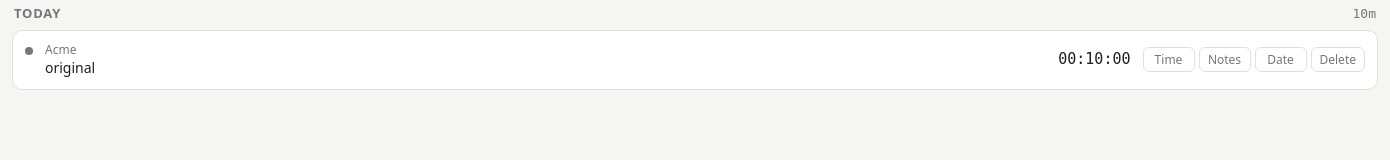
Test case: DayList notes editing › Escape discards the edit even though it leaves through blur
The image size is (1390, 160).
Step 1. Click the button titled "Edit notes" → (70,68), box [45,58,1046,78]
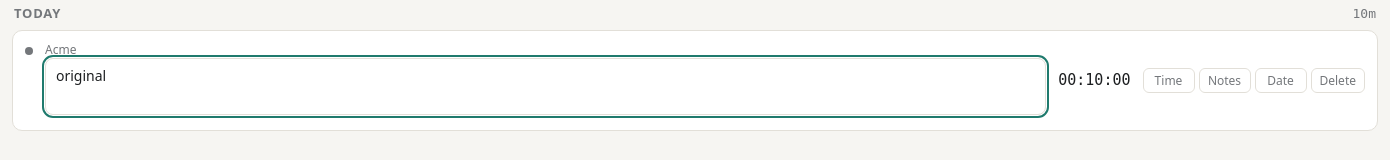
Step 2. Replace the text in the text box with "changed" → (546,86), box [45,58,1046,115]
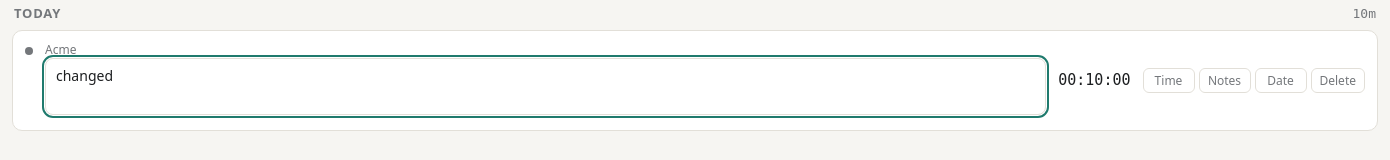
Step 3. Press Escape in the text box, box [45,58,1046,115]
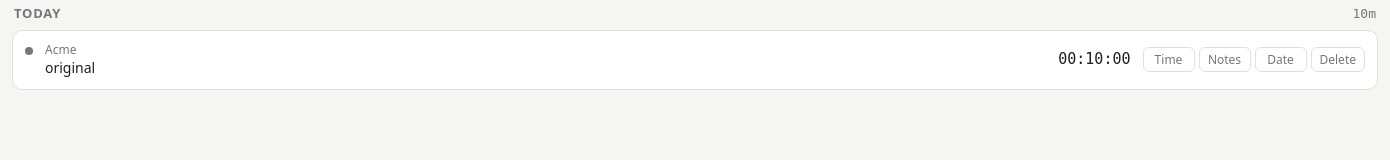
Expected: the button titled "Edit notes" reads "original", [45,58,1046,78]
